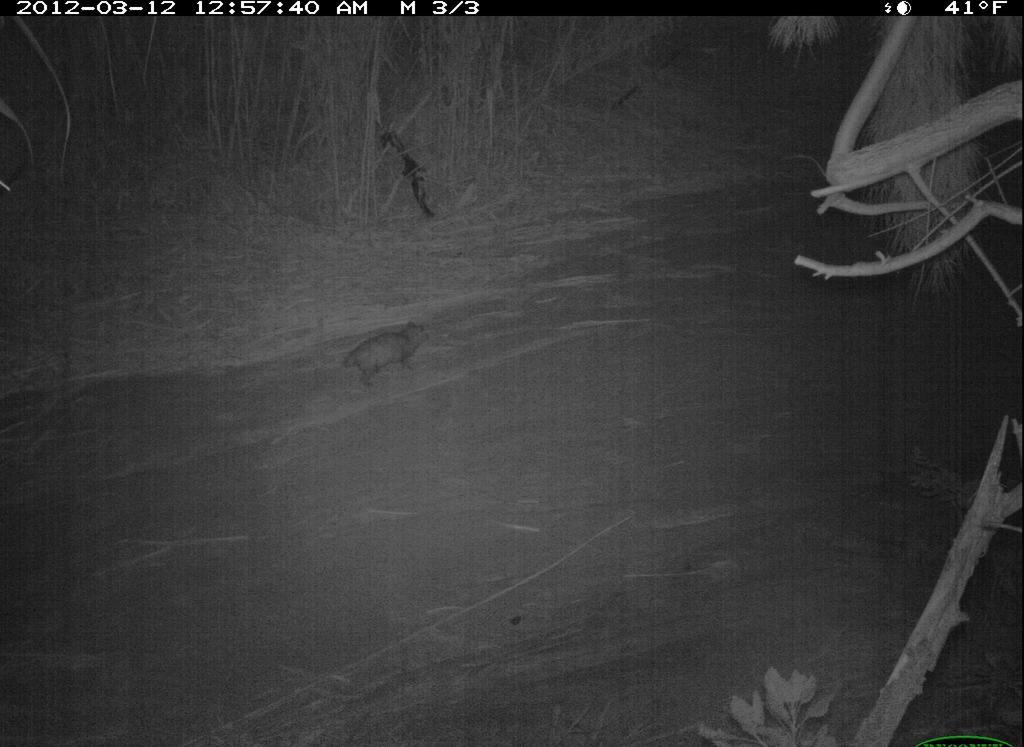opossum: (318, 312, 443, 393)
